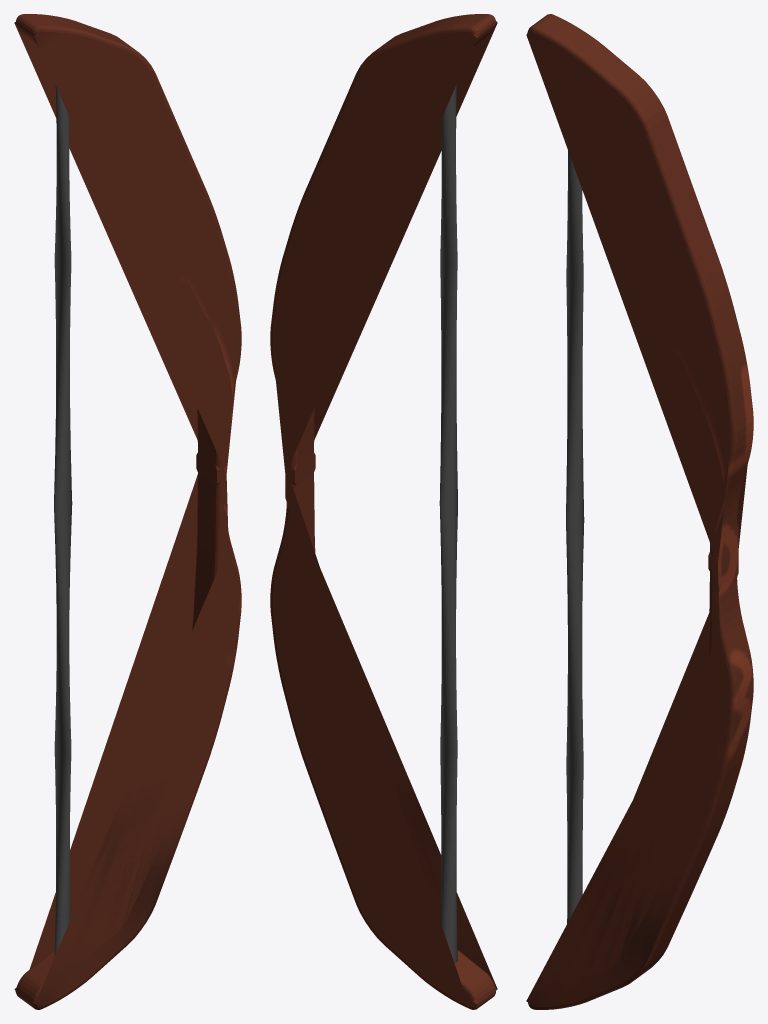
The model's file is Arc.fbx.
3 renders of one model, left to right at view 1: azimuth 30°, elevation 25°; view 2: azimuth 150°, elevation 25°; view 3: azimuth 330°, elevation 25°, orthographic.
Visible parts, largest first — view 1: Arc, Corde; view 2: Arc, Corde; view 3: Arc, Corde.
Boxes of the visible parts, x1,y1,x2,y2 form: Arc: (14,14,241,1009); Corde: (54,86,72,956); Arc: (270,14,497,1009); Corde: (439,85,457,962); Arc: (526,14,753,1009); Corde: (566,151,584,923).
Size of the model in its own units: 217 by 980 by 37.36.
